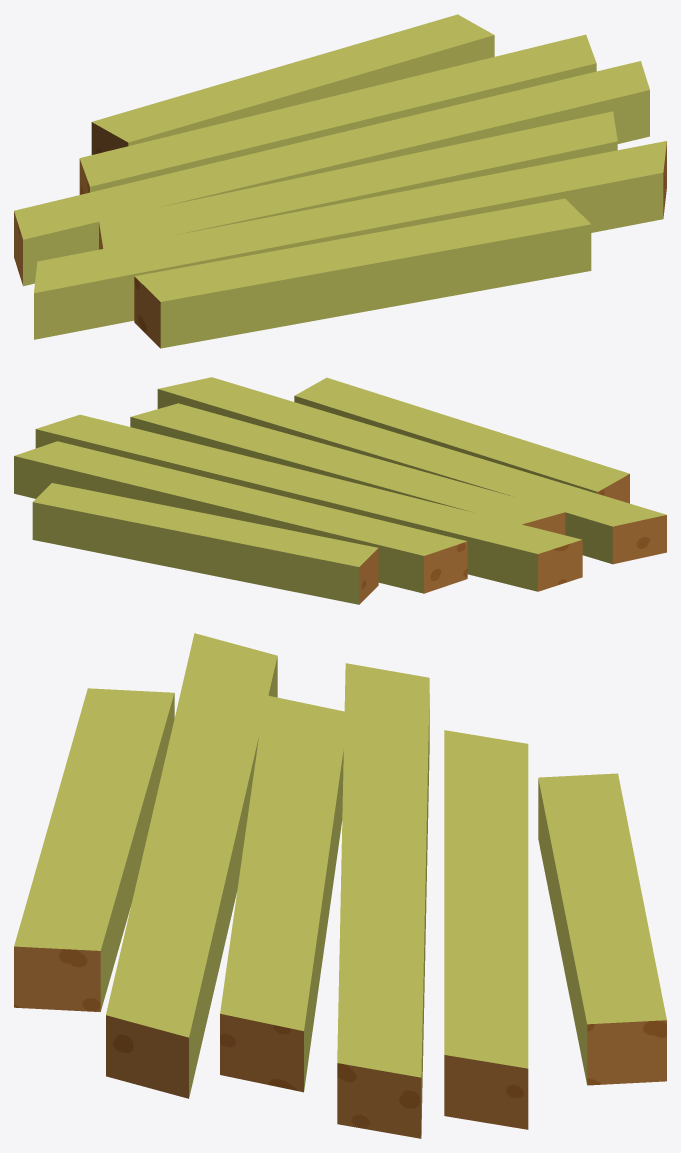
Rendered from PapasCortadas.fbx.
The picture shows the model from 3 angles, top to bottom: view 1: azimuth 30°, elevation 25°; view 2: azimuth 150°, elevation 25°; view 3: azimuth 270°, elevation 25°; orthographic projection. The views are drawn at different scales.
Visible parts, largest first — view 1: PAPA_CORTADO_PRP; view 2: PAPA_CORTADO_PRP; view 3: PAPA_CORTADO_PRP.
Part boxes in pixels (x1=…): PAPA_CORTADO_PRP: x1=14, y1=14, x2=666, y2=348; PAPA_CORTADO_PRP: x1=14, y1=377, x2=666, y2=604; PAPA_CORTADO_PRP: x1=14, y1=633, x2=666, y2=1138.
Bounding box in the file's own units: 90.22 × 5.79 × 56.
Materials: 2 (1 with a texture image).
